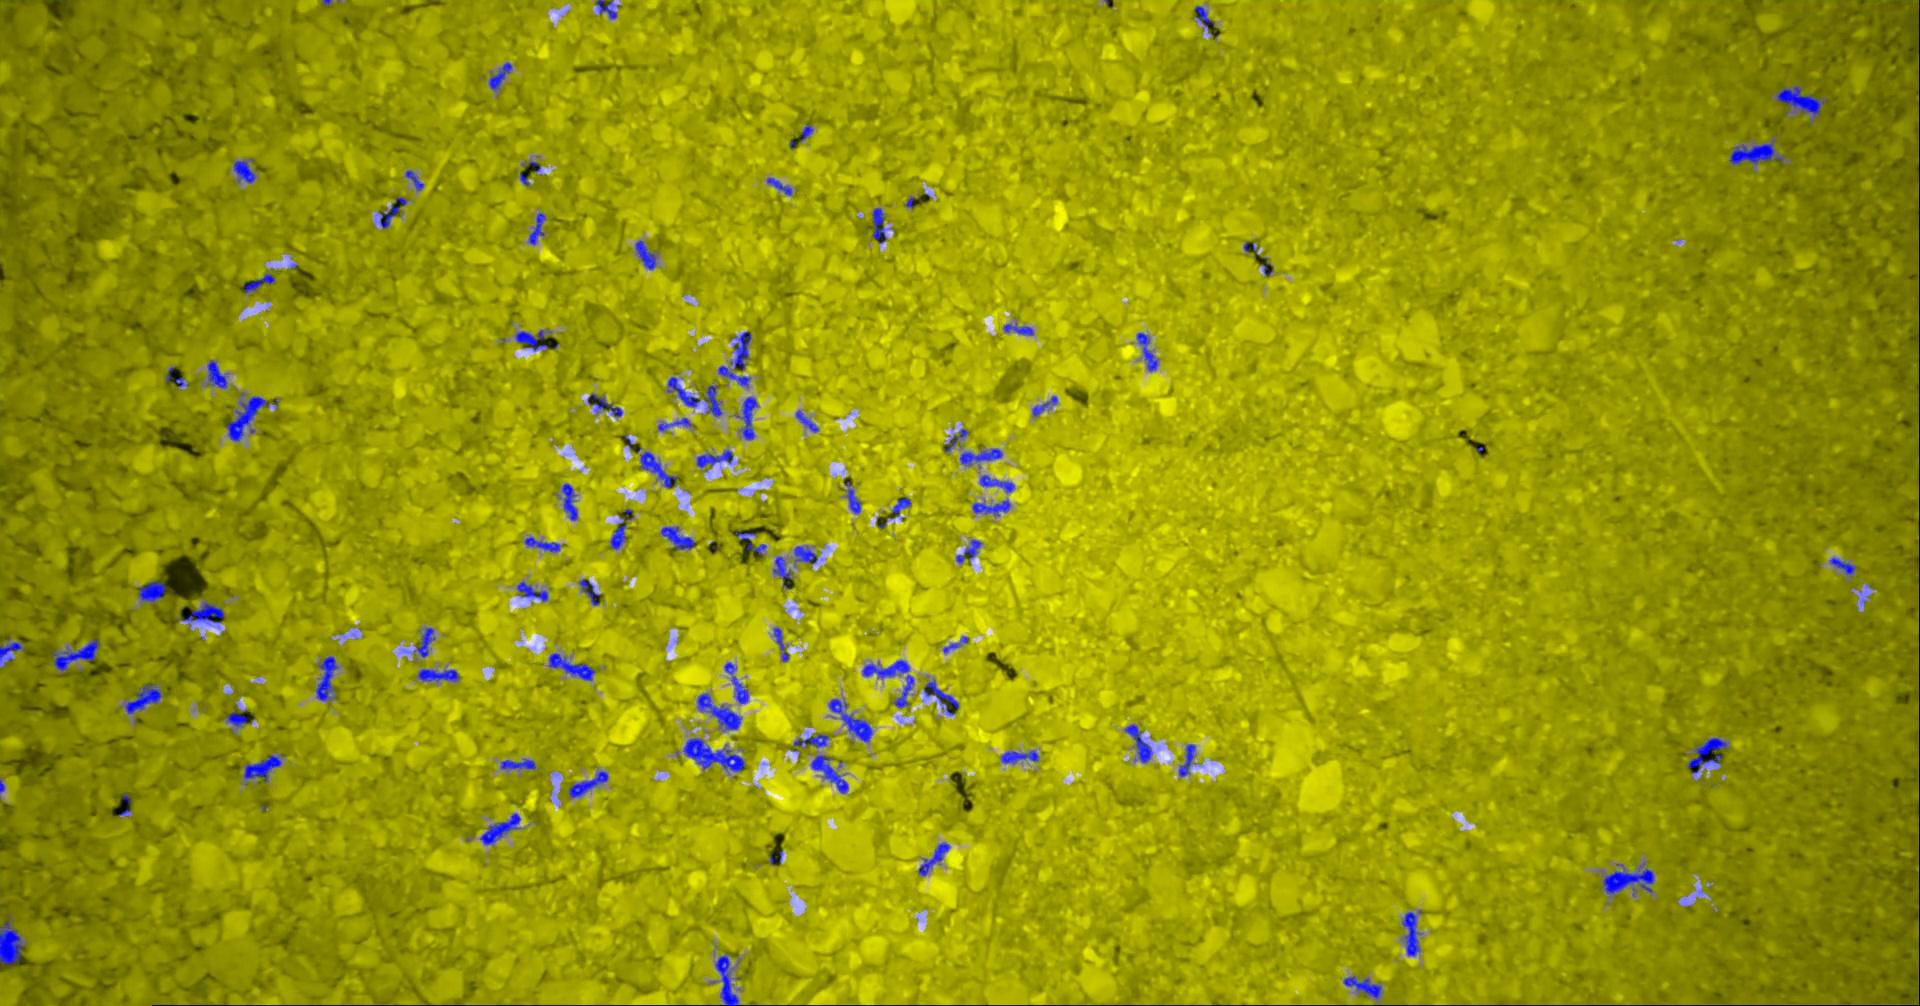ant: (861, 659, 913, 708), (225, 395, 277, 441), (667, 376, 721, 417), (683, 737, 744, 771), (828, 699, 872, 742), (696, 694, 742, 729), (1603, 865, 1655, 895), (1777, 85, 1826, 117), (637, 447, 677, 486), (51, 638, 99, 669), (1688, 737, 1726, 774), (810, 754, 847, 793), (479, 812, 521, 843), (549, 652, 594, 680), (1730, 140, 1782, 164), (714, 955, 738, 1005), (923, 680, 957, 714), (124, 683, 161, 713), (1124, 724, 1152, 762), (568, 770, 607, 796), (0, 920, 23, 965), (723, 662, 748, 702), (243, 754, 281, 781), (918, 842, 949, 875), (315, 655, 337, 700), (378, 196, 408, 227), (737, 396, 757, 439), (180, 602, 223, 622), (1343, 976, 1382, 998), (587, 392, 622, 417), (1137, 332, 1157, 371), (1401, 911, 1418, 955), (660, 526, 695, 549), (730, 332, 750, 370), (734, 531, 766, 555), (514, 329, 547, 351), (717, 365, 750, 386), (959, 448, 1002, 465), (696, 448, 733, 467), (240, 273, 274, 292), (516, 580, 547, 601), (488, 62, 510, 90), (979, 474, 1015, 492), (792, 733, 828, 751), (413, 627, 434, 657), (635, 239, 655, 269), (955, 539, 982, 561), (772, 556, 791, 588), (971, 499, 1010, 514), (578, 578, 599, 605), (561, 483, 577, 520), (943, 428, 968, 451), (0, 636, 23, 661), (772, 627, 789, 661), (1194, 5, 1214, 32), (138, 580, 165, 601), (207, 359, 226, 387), (417, 668, 458, 681), (843, 481, 860, 513), (524, 536, 559, 551), (1001, 749, 1037, 763), (1178, 743, 1194, 776), (232, 160, 255, 182), (795, 410, 818, 432), (1032, 395, 1057, 415), (528, 212, 543, 244), (610, 520, 626, 549), (871, 208, 885, 243), (1829, 558, 1855, 575), (225, 709, 251, 727), (657, 417, 690, 431), (767, 177, 791, 196), (165, 366, 187, 386), (794, 545, 817, 563), (404, 170, 423, 191), (891, 497, 910, 517), (942, 636, 968, 652), (1003, 323, 1032, 335), (596, 0, 616, 18), (500, 758, 535, 768), (799, 124, 811, 141)
